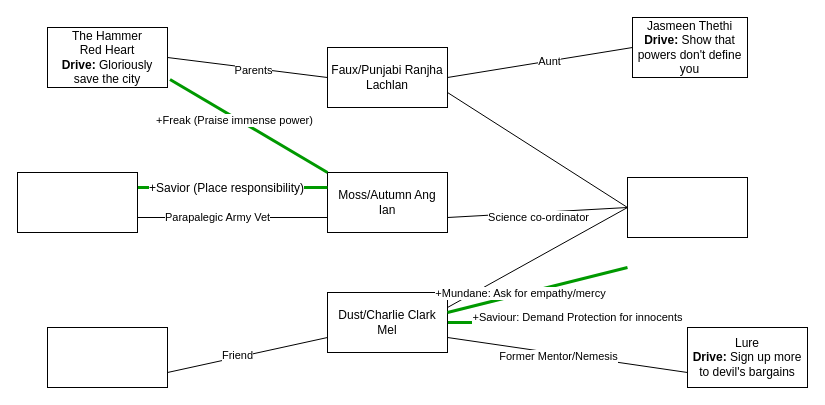
Image size: 825x405. Some labels were removed from this diagram. The centre of each missing label's shape, as x and y in pixels:
Arlo Mavris Drive: Get close to Charlie: pixel 107 357
Mrs Jeffries Drive: To improve the school's ratings: pixel 687 207
Sara Anderson Drive: Help others work through pain: pixel 77 202
